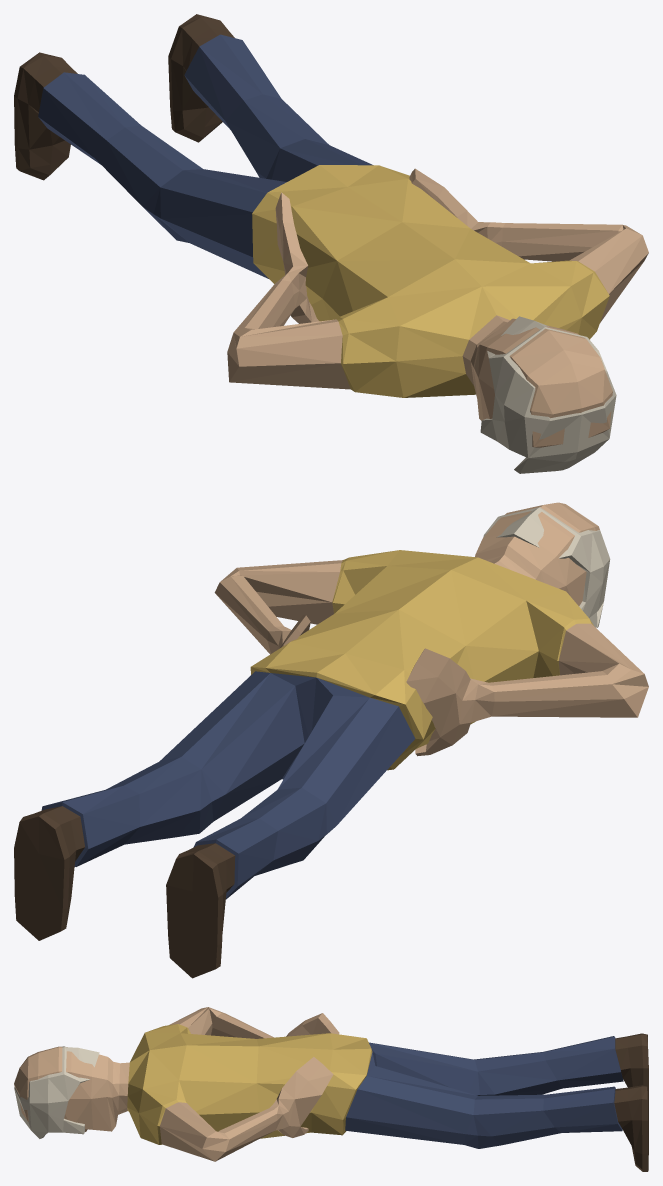
Rendered from man-standing-hands-on-hips.obj.
3 renders of one model, top to bottom at view 1: azimuth 30°, elevation 25°; view 2: azimuth 150°, elevation 25°; view 3: azimuth 270°, elevation 25°, orthographic. The views are drawn at different scales.
Visible parts, largest first — view 1: man-standing-hands-on-hips; view 2: man-standing-hands-on-hips; view 3: man-standing-hands-on-hips.
Part boxes in pixels (box(x1,y1,x2,y2)): man-standing-hands-on-hips: box(14, 14, 648, 473); man-standing-hands-on-hips: box(14, 502, 648, 978); man-standing-hands-on-hips: box(14, 1007, 648, 1171).
Bounding box in the file's own units: 36.64 × 13.31 × 70.56.
